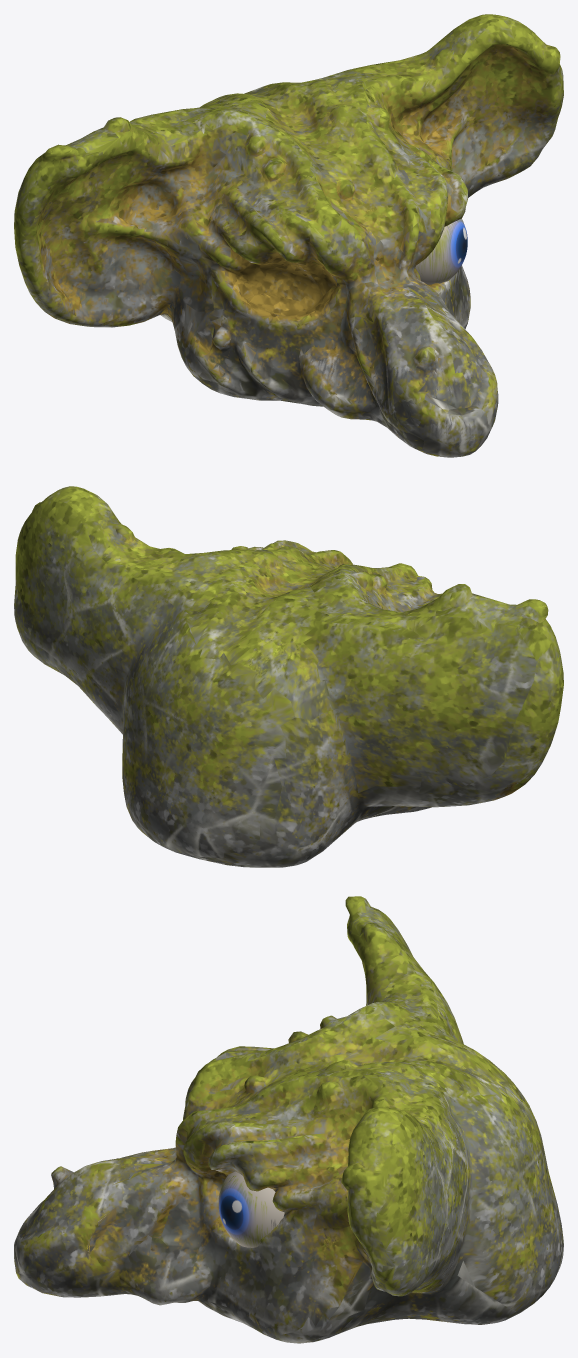
The model's file is roktroll.fbx.
3 renders of one model, top to bottom at view 1: azimuth 30°, elevation 25°; view 2: azimuth 150°, elevation 25°; view 3: azimuth 270°, elevation 25°, orthographic. The views are drawn at different scales.
Visible parts, largest first — view 1: Goblin Head, Eyeball; view 2: Goblin Head; view 3: Goblin Head, Eyeball.
Boxes of the visible parts, box(x1,y1,x2,y2) form: Goblin Head: box(14, 14, 563, 457); Eyeball: box(415, 218, 467, 284); Goblin Head: box(14, 486, 563, 867); Goblin Head: box(14, 896, 563, 1343); Eyeball: box(218, 1171, 284, 1247).
Bounding box in the file's own units: 206 × 105 × 175.
